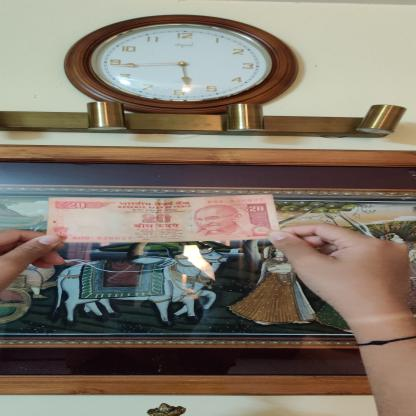Old20Front: (46, 194, 280, 243)
